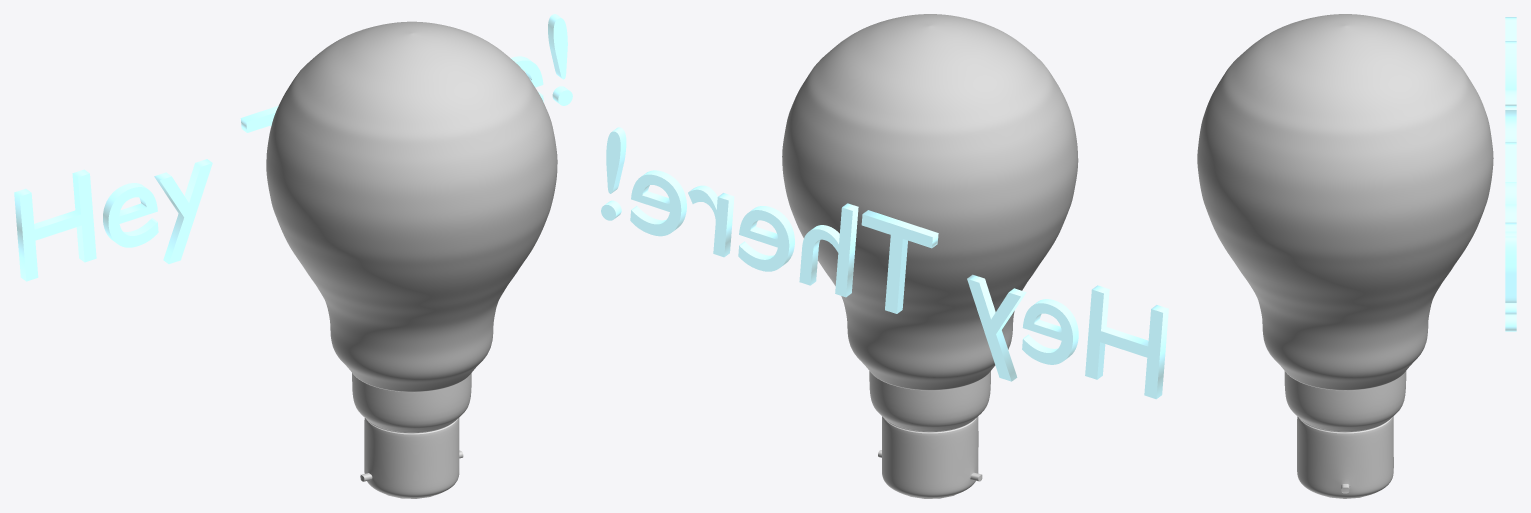
The model's file is bulb_2.glb.
3 renders of one model, left to right at view 1: azimuth 30°, elevation 25°; view 2: azimuth 150°, elevation 25°; view 3: azimuth 270°, elevation 25°, orthographic.
Parts seen in each view (by area): view 1: Bulb Glass, Text, Bulb Holder; view 2: Bulb Glass, Text, Bulb Holder; view 3: Bulb Glass, Bulb Holder, Text.
Part boxes in pixels (left/top/right/bottom): Bulb Glass: left=266, top=21, right=557, bottom=392; Text: left=14, top=14, right=572, bottom=281; Bulb Holder: left=352, top=373, right=471, bottom=498; Bulb Glass: left=782, top=14, right=1078, bottom=390; Text: left=601, top=127, right=1168, bottom=399; Bulb Holder: left=869, top=371, right=990, bottom=498; Bulb Glass: left=1197, top=14, right=1493, bottom=390; Bulb Holder: left=1284, top=371, right=1406, bottom=498; Text: left=1505, top=17, right=1516, bottom=331.
Size of the model in its own units: 0.8777 by 0.6871 by 0.4318.
